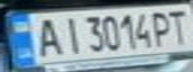0: (100, 11, 121, 52)
1: (118, 10, 136, 51)
3: (81, 12, 106, 53)
4: (133, 9, 154, 48)
A: (27, 15, 66, 57)
I: (57, 13, 84, 55)
P: (148, 8, 175, 47)
T: (166, 6, 193, 45)
